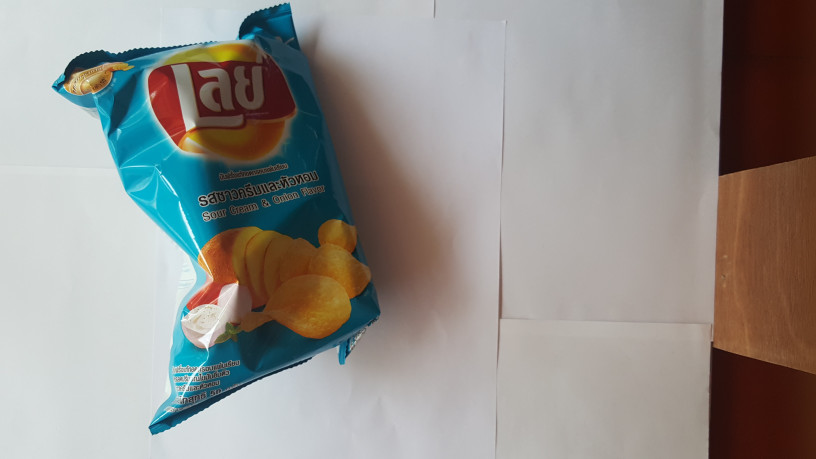lays-onion: (43, 1, 406, 428)
